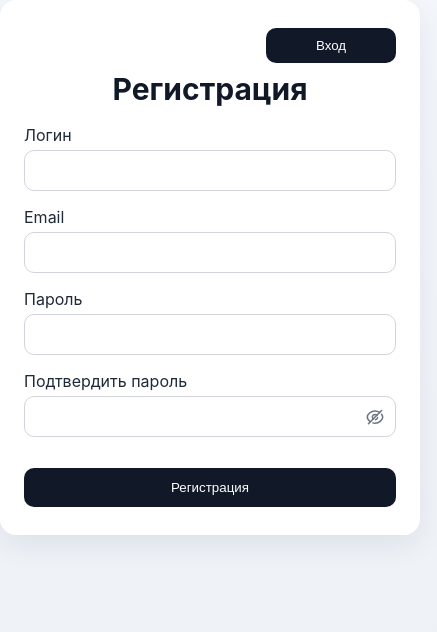
Scenario: Registration › error handling with name and email
The width and height of the screenshot is (437, 632).
Step 1. Type "Alex" into the field labelled "Логин" → (210, 170), box x1=24 y1=150 x2=396 y2=191
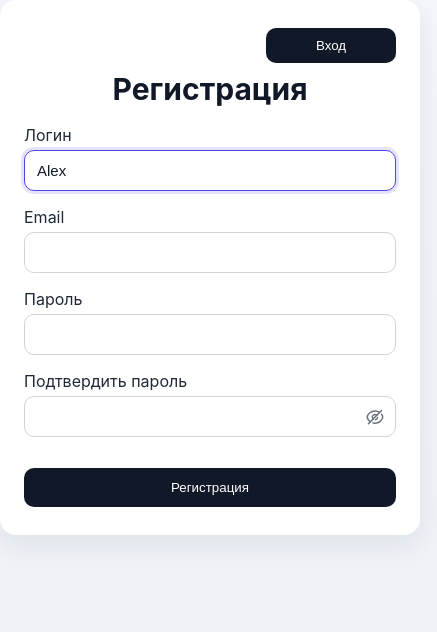
Step 2. Type "test@mail.ru" into the field labelled "Email" → (210, 252), box x1=24 y1=232 x2=396 y2=273
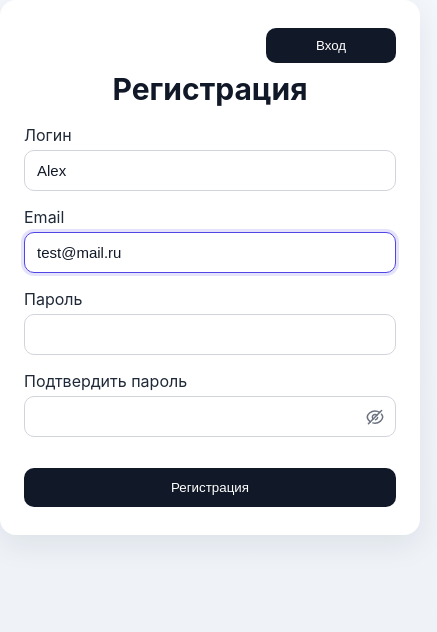
Step 3. Type "pass123" into the password field labelled "Пароль" → (210, 334), box x1=24 y1=314 x2=396 y2=355
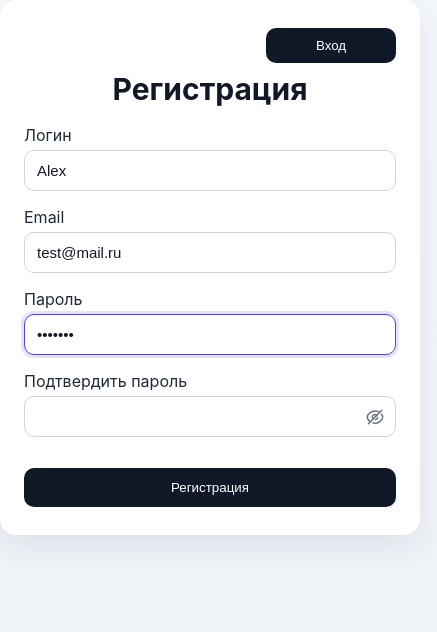
Step 4. Type "pass123" into the password field labelled "Подтвердить пароль" → (210, 416), box x1=24 y1=396 x2=396 y2=437
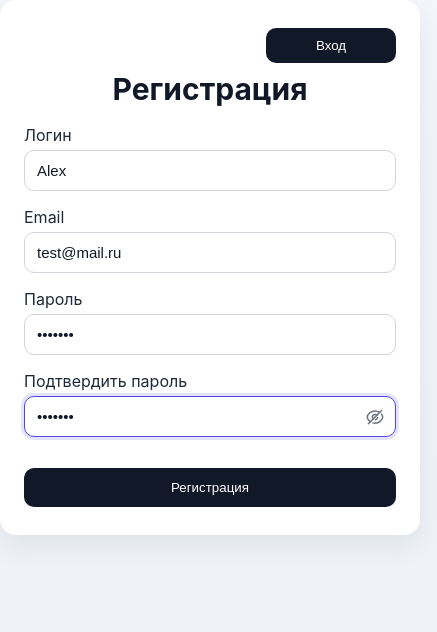
Step 5. Click the button "Регистрация" → (210, 488), box x1=24 y1=468 x2=396 y2=507
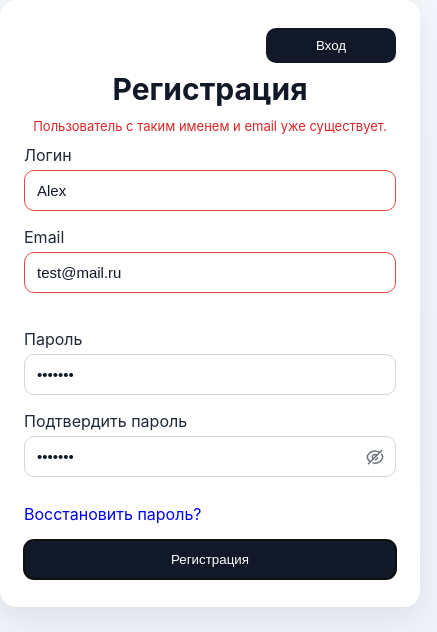
Expected: the text "Пользователь с таким именем и email уже существует." is shown, x1=33 y1=118 x2=387 y2=134
